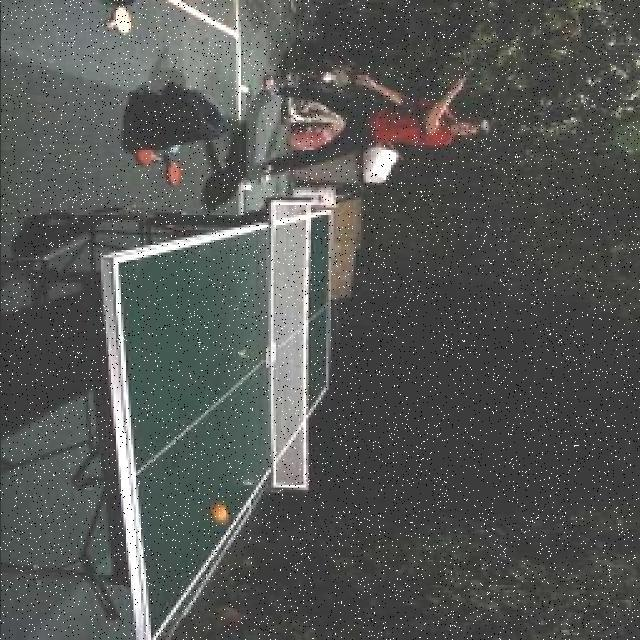ping-pong-ball: (206, 502, 232, 524)
